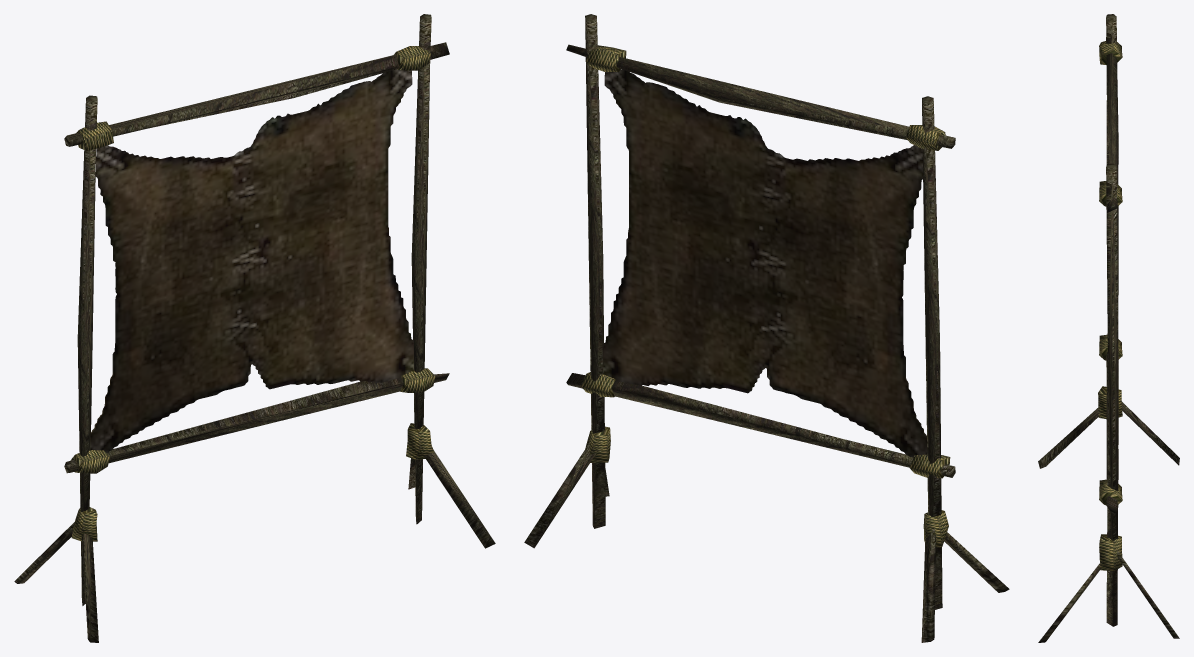
Rendered from OC_LEATHERSTAND_V01.glb.
The picture shows the model from 3 angles, left to right: view 1: azimuth 30°, elevation 25°; view 2: azimuth 150°, elevation 25°; view 3: azimuth 270°, elevation 25°; orthographic projection. The views are drawn at different scales.
Parts seen in each view (by area): view 1: Mesh; view 2: Mesh; view 3: Mesh.
Boxes of the visible parts, x1,y1,x2,y2 form: Mesh: [14, 14, 495, 642]; Mesh: [524, 14, 1009, 642]; Mesh: [1038, 14, 1179, 642].
Bounding box in the file's own units: 2.06 × 2.47 × 0.6814.
3 materials, 3 textured.
